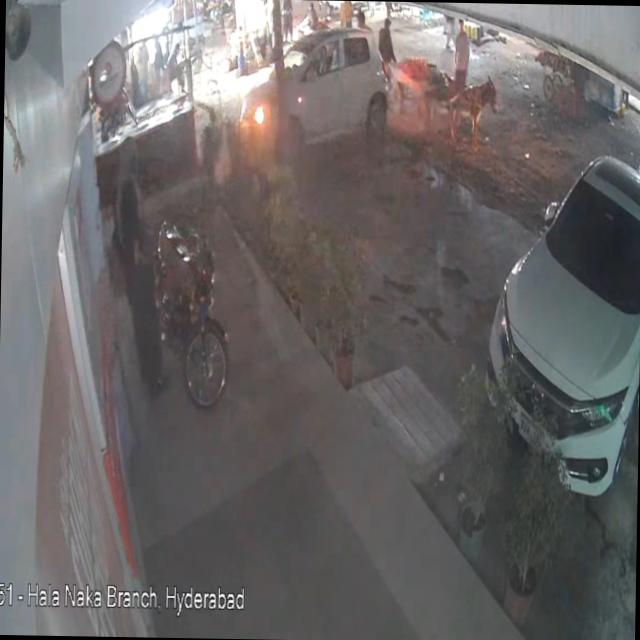Car: (482, 133, 640, 516), (240, 28, 408, 162)
